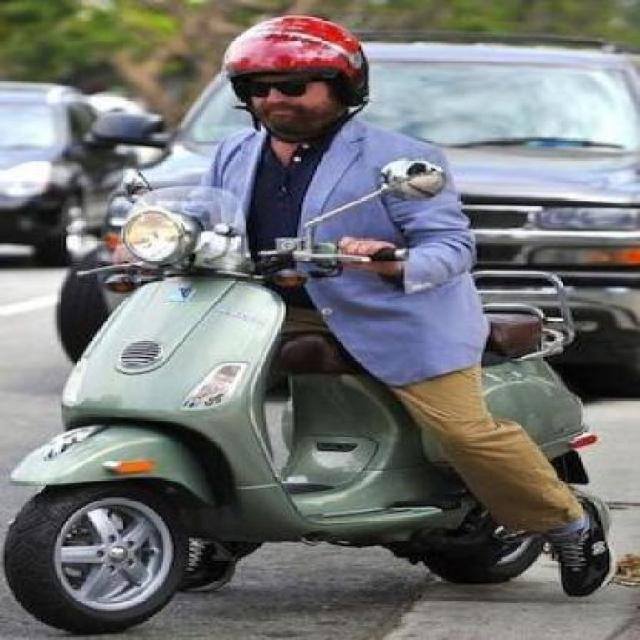helmet: (206, 8, 377, 154)
motorcycle: (21, 8, 624, 640)
